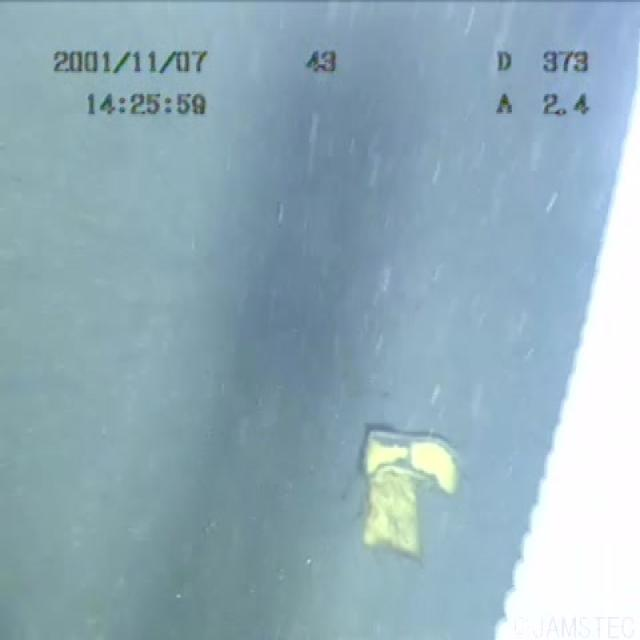plastic: (304, 400, 479, 564)
